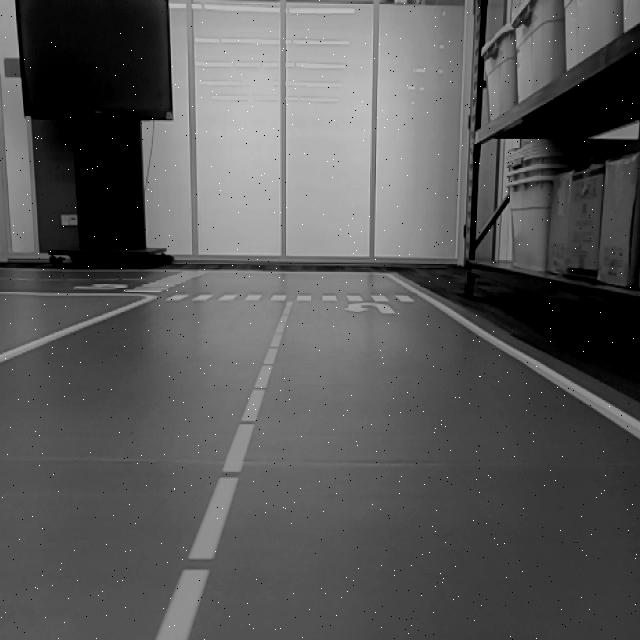left_lane: (155, 300, 294, 640)
right_lane: (393, 276, 640, 440), (0, 297, 153, 363)
